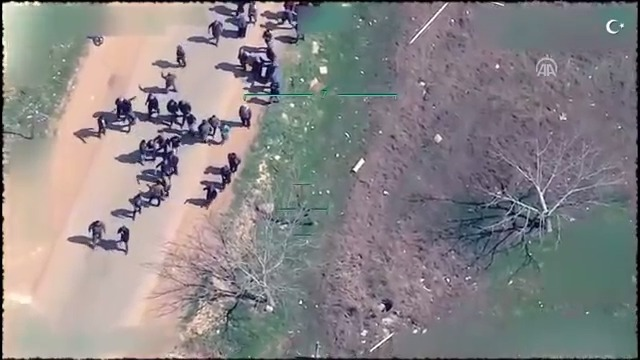insan: (113, 222, 135, 258), (159, 64, 182, 94), (206, 17, 227, 48), (141, 90, 164, 116), (87, 218, 106, 249), (197, 182, 218, 207), (235, 102, 255, 126), (128, 191, 146, 217), (93, 110, 109, 138), (260, 26, 277, 49), (184, 111, 200, 135), (228, 148, 245, 170), (174, 44, 190, 67), (137, 137, 149, 164)
